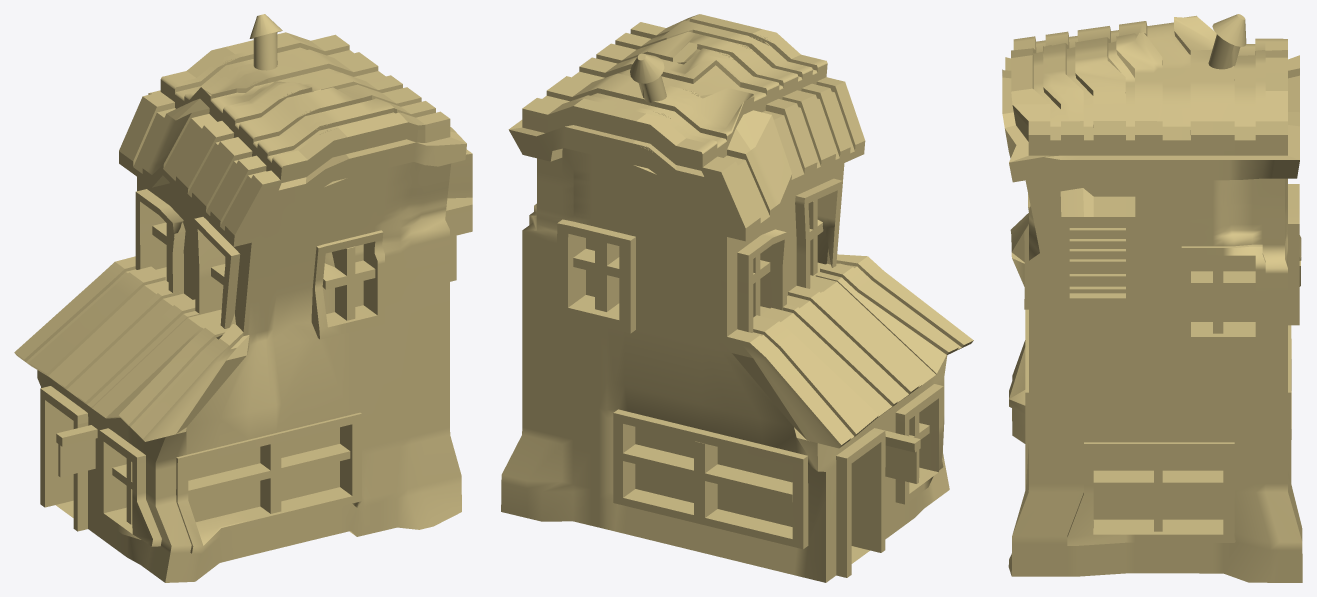
Rendered from Bar.fbx.
The picture shows the model from 3 angles, left to right: view 1: azimuth 30°, elevation 25°; view 2: azimuth 150°, elevation 25°; view 3: azimuth 270°, elevation 25°; orthographic projection. The views are drawn at different scales.
Parts seen in each view (by area): view 1: pCylinder38; view 2: pCylinder38; view 3: pCylinder38.
Part boxes in pixels (box(x1,y1,x2,y2)): pCylinder38: box(14, 14, 472, 582); pCylinder38: box(501, 14, 973, 582); pCylinder38: box(1002, 14, 1302, 582).
Size of the model in its own units: 848 by 1006 by 533.
